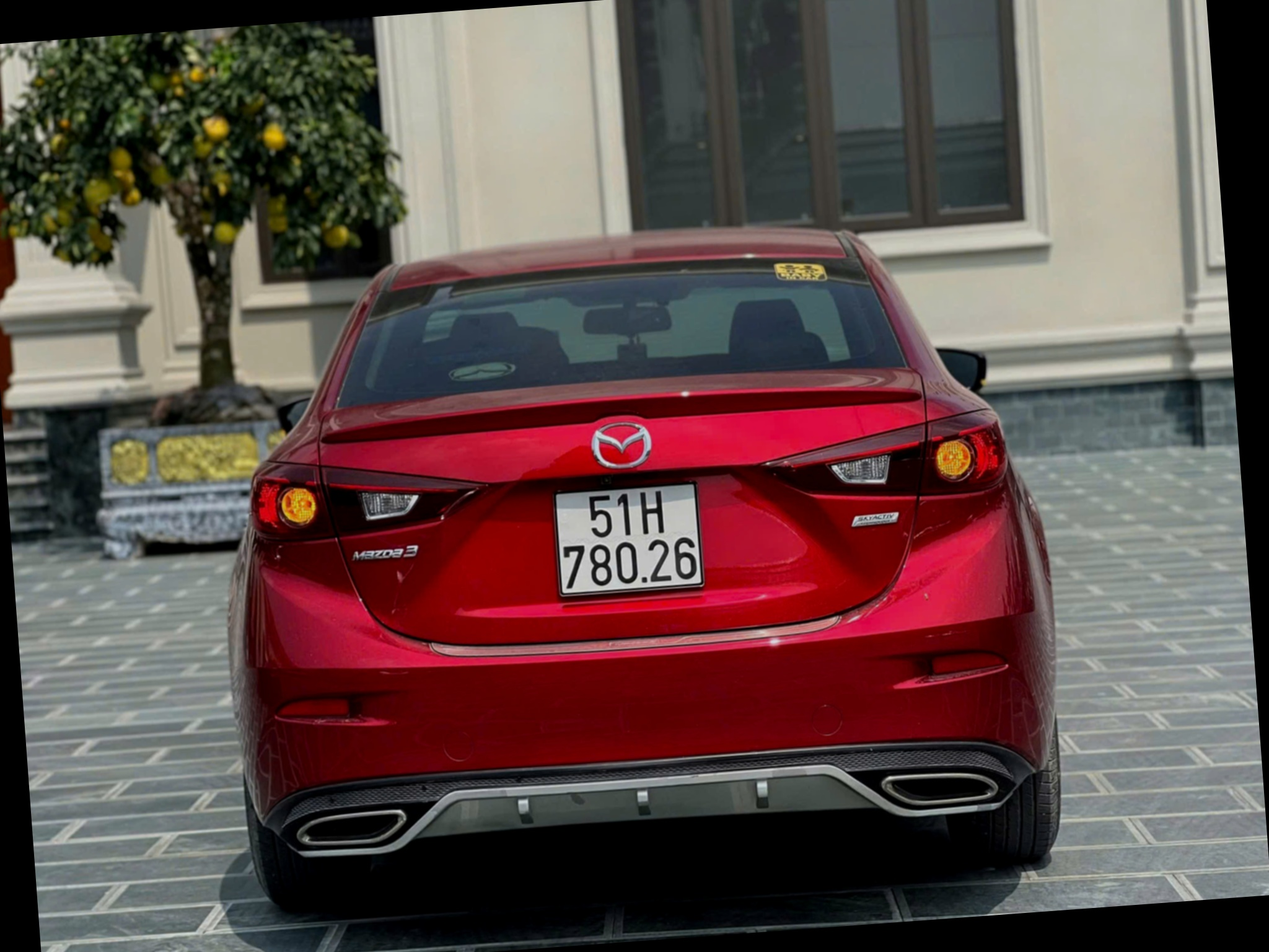Bien-so: (576, 503, 729, 625)
